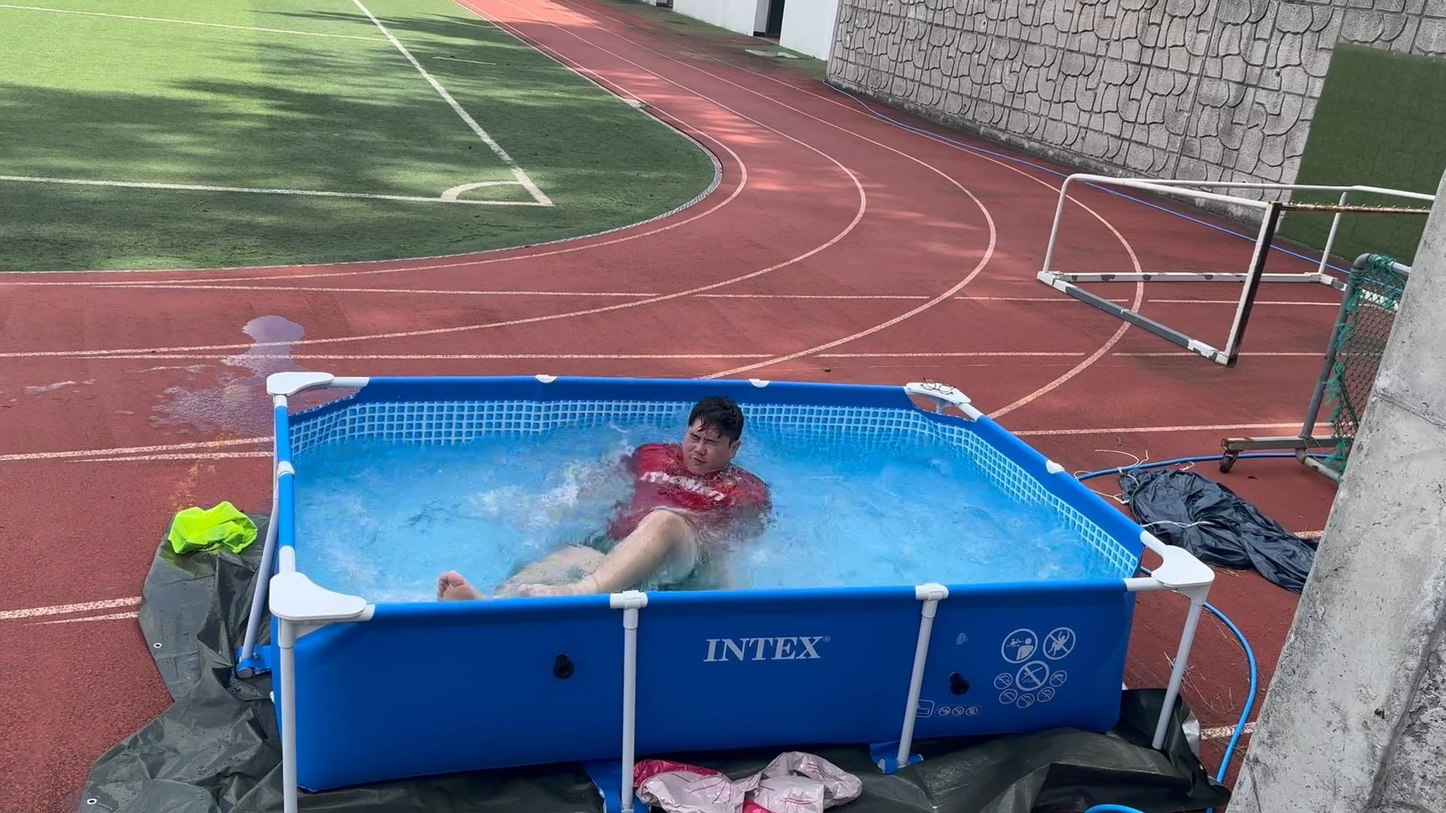Drowning: (432, 383, 814, 605)
